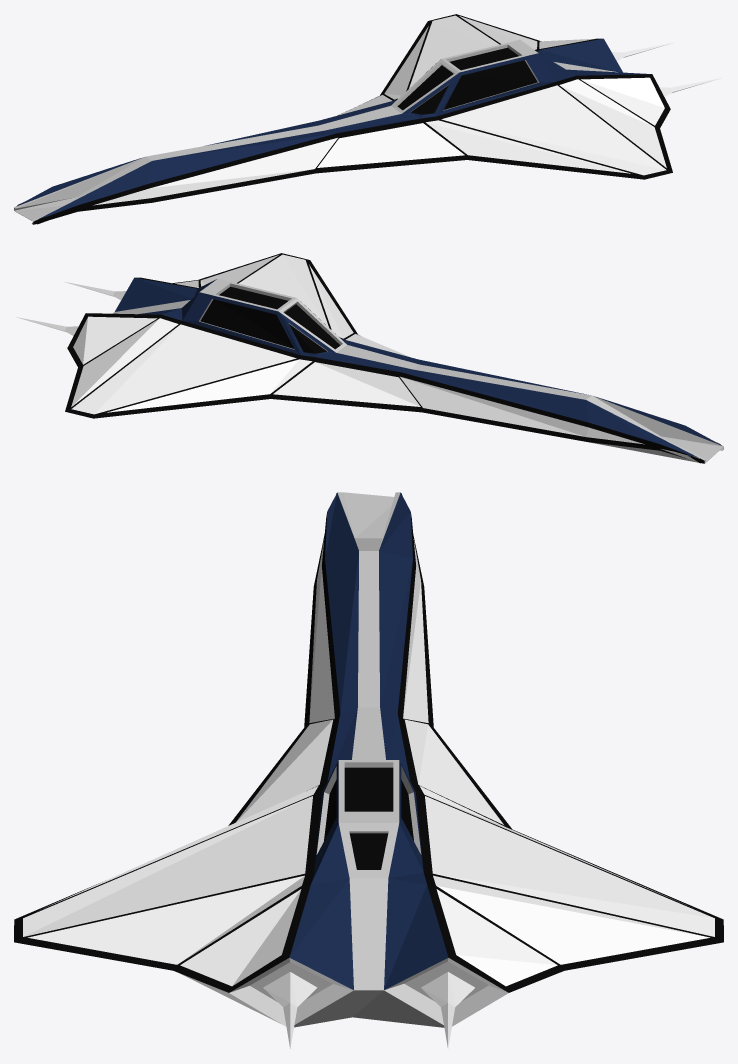
The model's file is MyShip.fbx.
The picture shows the model from 3 angles, top to bottom: view 1: azimuth 30°, elevation 25°; view 2: azimuth 150°, elevation 25°; view 3: azimuth 270°, elevation 25°; orthographic projection. The views are drawn at different scales.
Visible parts, largest first — view 1: Cube; view 2: Cube; view 3: Cube, Cone, Cone_1.
Part boxes in pixels (x1=…): Cube: x1=14, y1=14, x2=672, y2=224; Cube: x1=65, y1=253, x2=723, y2=463; Cube: x1=14, y1=492, x2=723, y2=1027; Cone: x1=421, y1=972, x2=474, y2=1048; Cone_1: x1=263, y1=972, x2=317, y2=1048.
Bounding box in the file's own units: 2199 × 251 × 1221.
